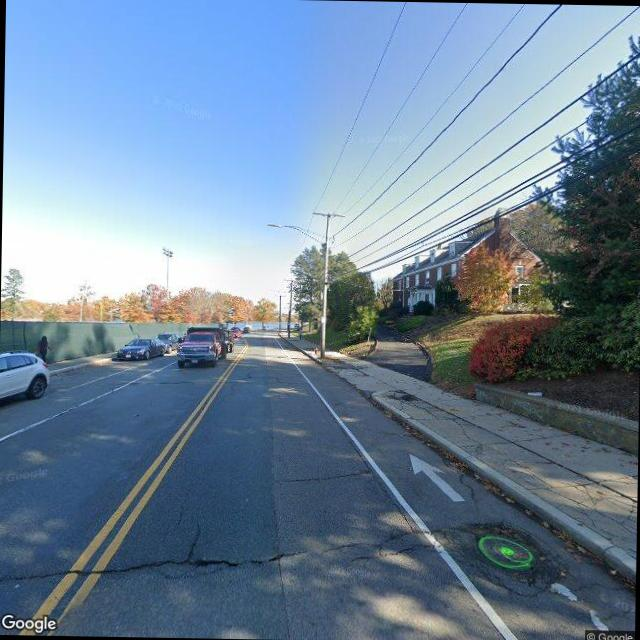crack: (0, 534, 404, 587), (323, 401, 440, 552), (272, 463, 368, 486)
